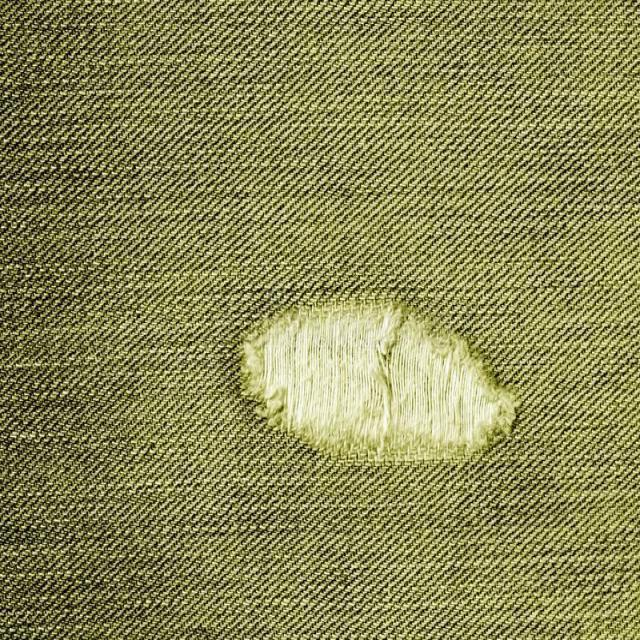Hole: (241, 302, 516, 462)
